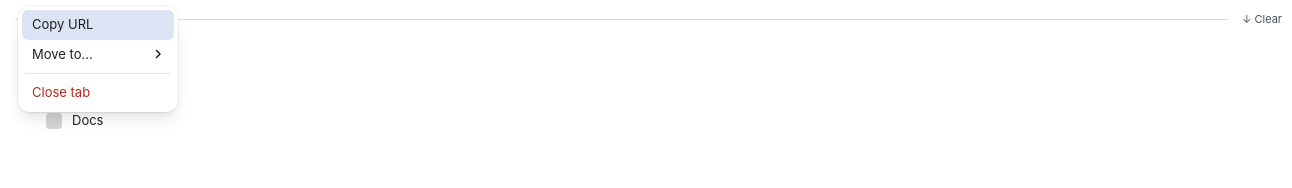
offers every Tab group to a tab that is outside of all groups
The width and height of the screenshot is (1292, 188).
Click the menu item "Move to…" at (98, 54), box [22,40,174,69]
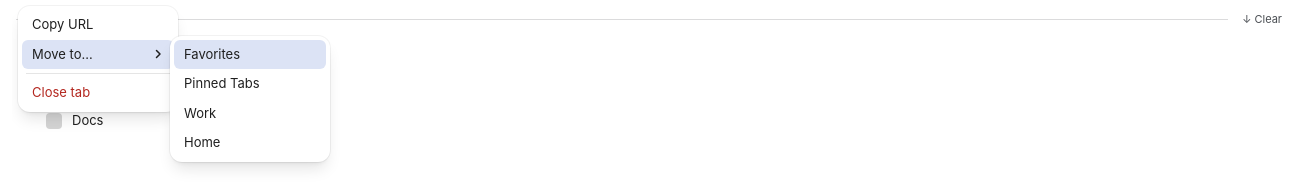
Click the menu item "Home" at (250, 143), box [174,128,326,158]
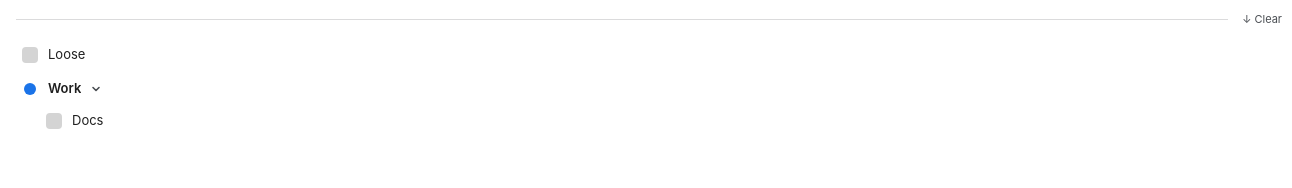
Now the menu is gone
